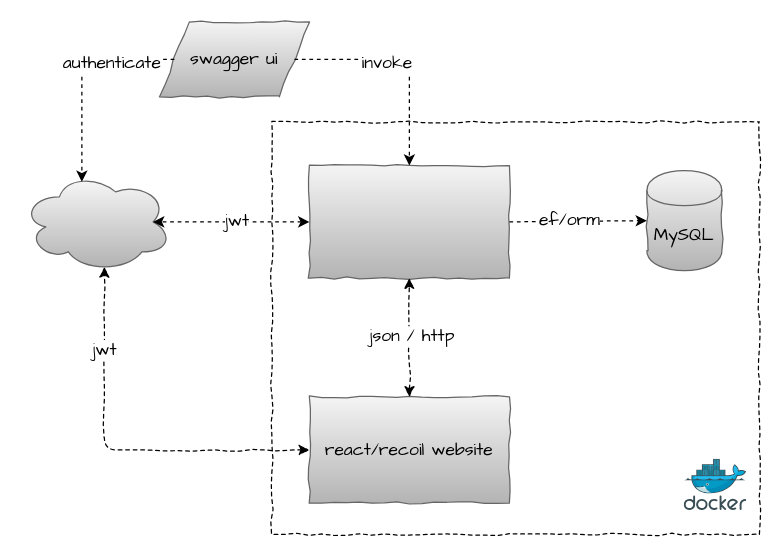
Image size: 781x556. Some labels were removed from this diagram. Here are the shapes that lost their labels. From the top down, the centre of each, then its label:
[96,221]: auth0
[408,221]: companies api
